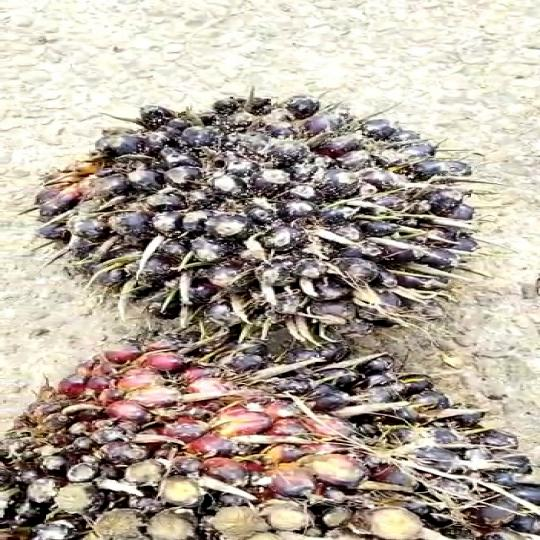mentah: (0, 335, 540, 540), (53, 87, 477, 328)
